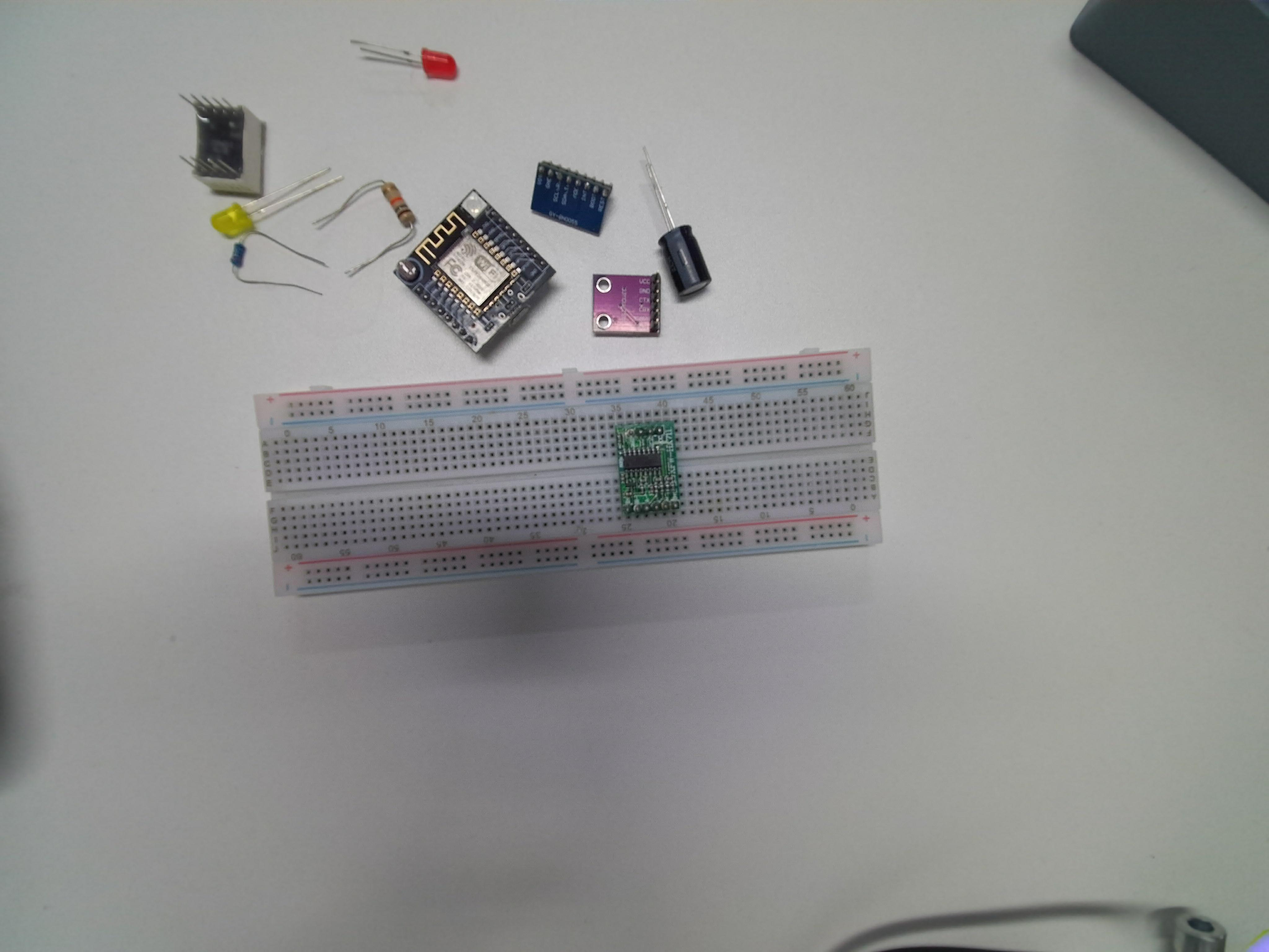base: (250, 348, 884, 602)
blue-board: (527, 163, 615, 231)
capacitor: (654, 217, 716, 302)
esp: (392, 186, 556, 362)
green-board: (613, 416, 684, 518)
purple-board: (590, 271, 661, 337)
red-led: (412, 42, 466, 90)
resistor-big: (370, 175, 421, 228)
resistor-small: (225, 240, 245, 267)
yellow-led: (200, 200, 262, 240)
